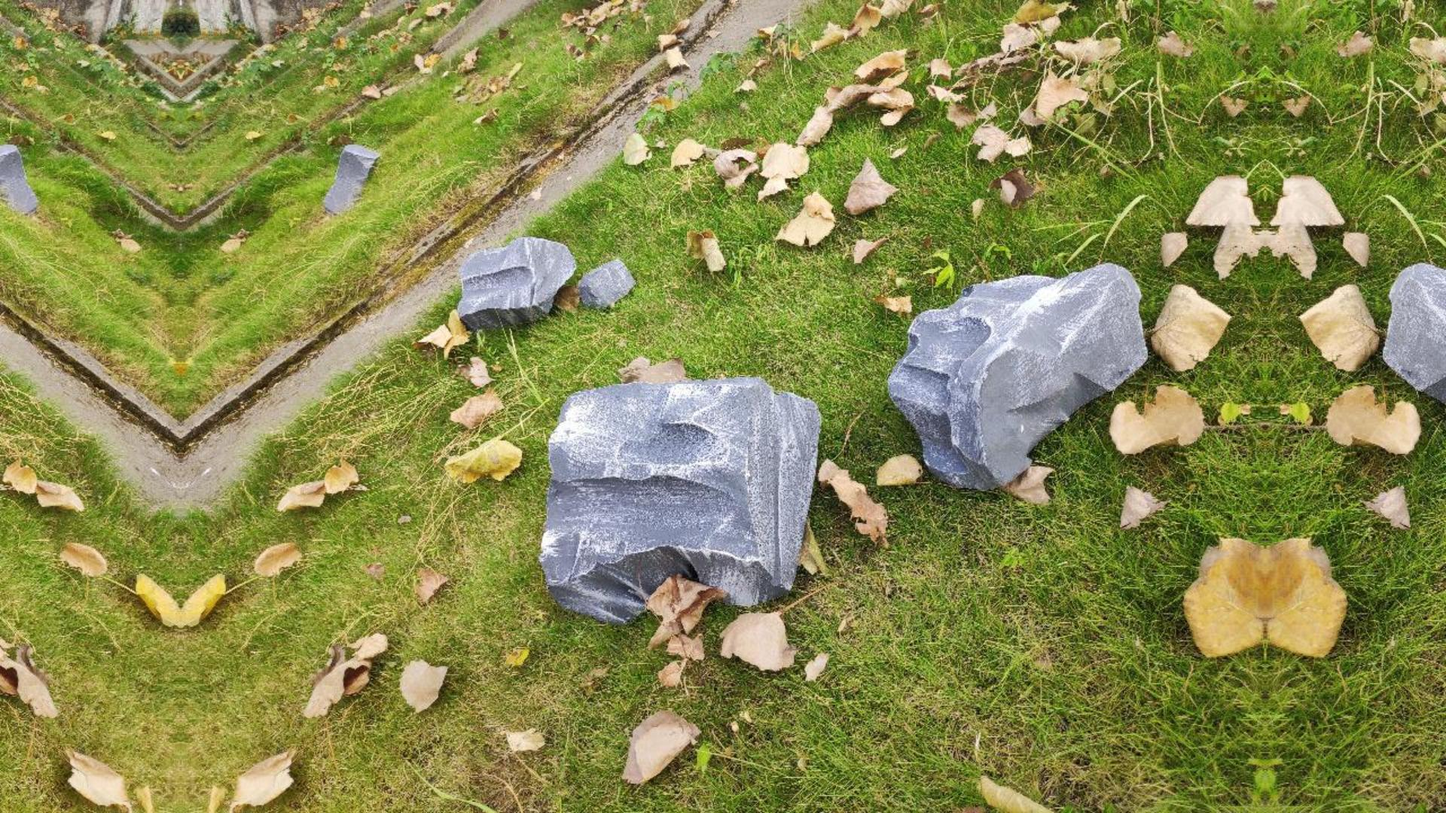rock: (539, 377, 819, 622), (888, 263, 1147, 489), (456, 237, 574, 330), (1383, 263, 1445, 402), (323, 145, 378, 213), (577, 260, 635, 307), (0, 143, 36, 213)
